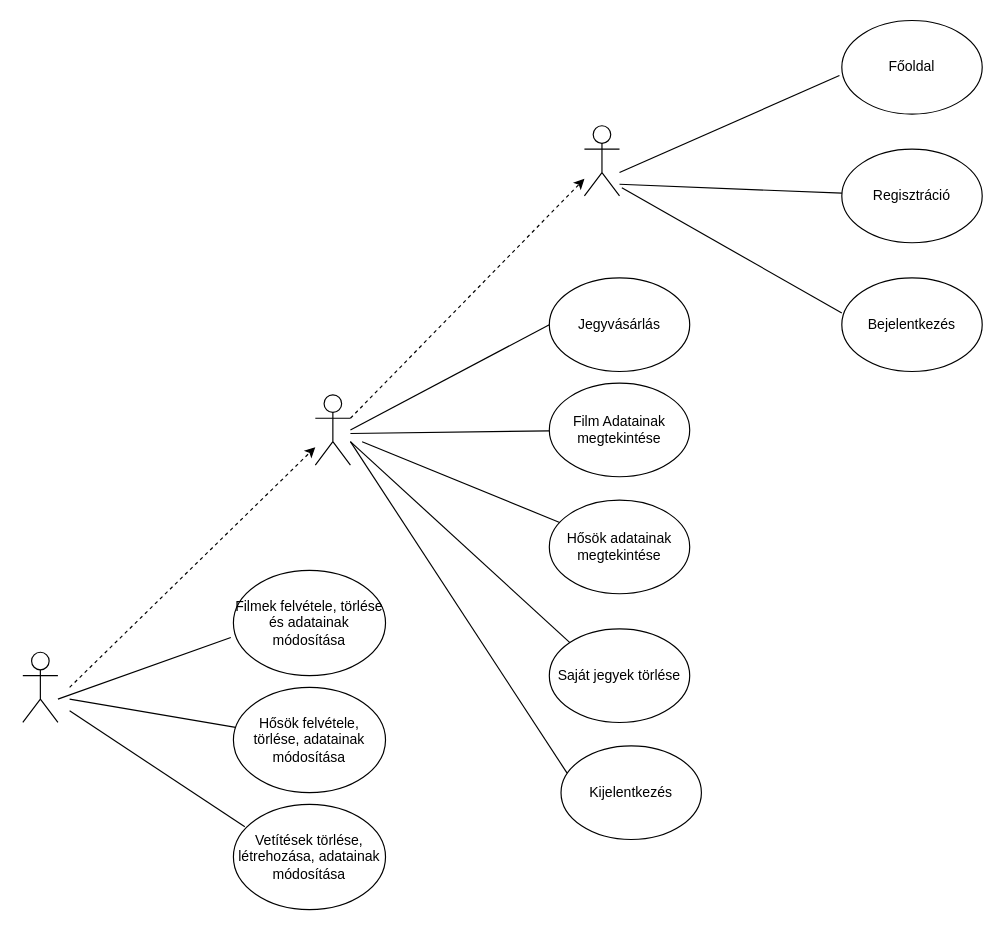
The diagram is 1003 pixels wide and 930 high, and some of its shapes have lost their labels. The centre of each missing label's shape, as x and y in pixels:
"Admin" belongs at [40,686].
"Felhasználó" belongs at [332,429].
"Vendég" belongs at [601,160].
